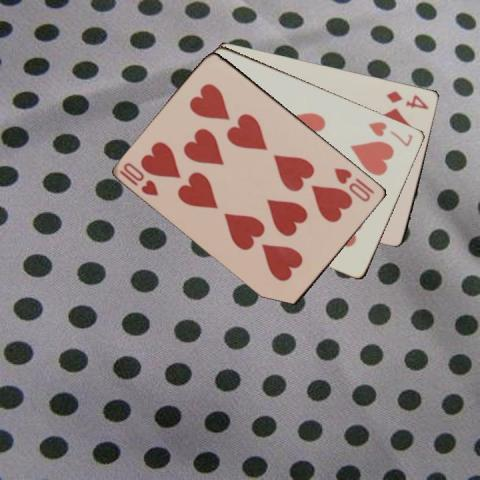10h: (330, 164, 376, 203), (116, 160, 160, 198)
4d: (384, 87, 431, 111)
7h: (365, 118, 415, 148)
